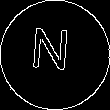N_S: (33, 29, 77, 81)
